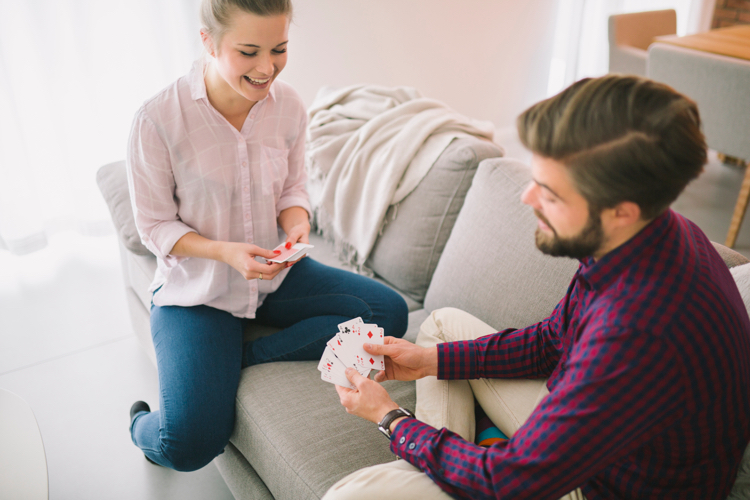Bad: (129, 1, 750, 495)
